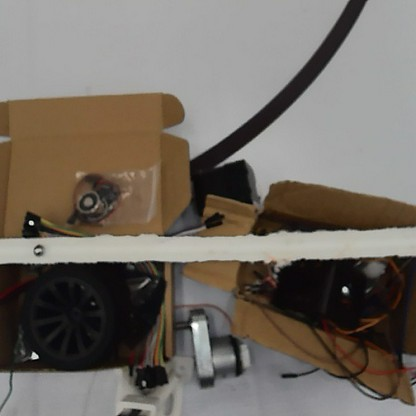ironball: (30, 242, 44, 257)
